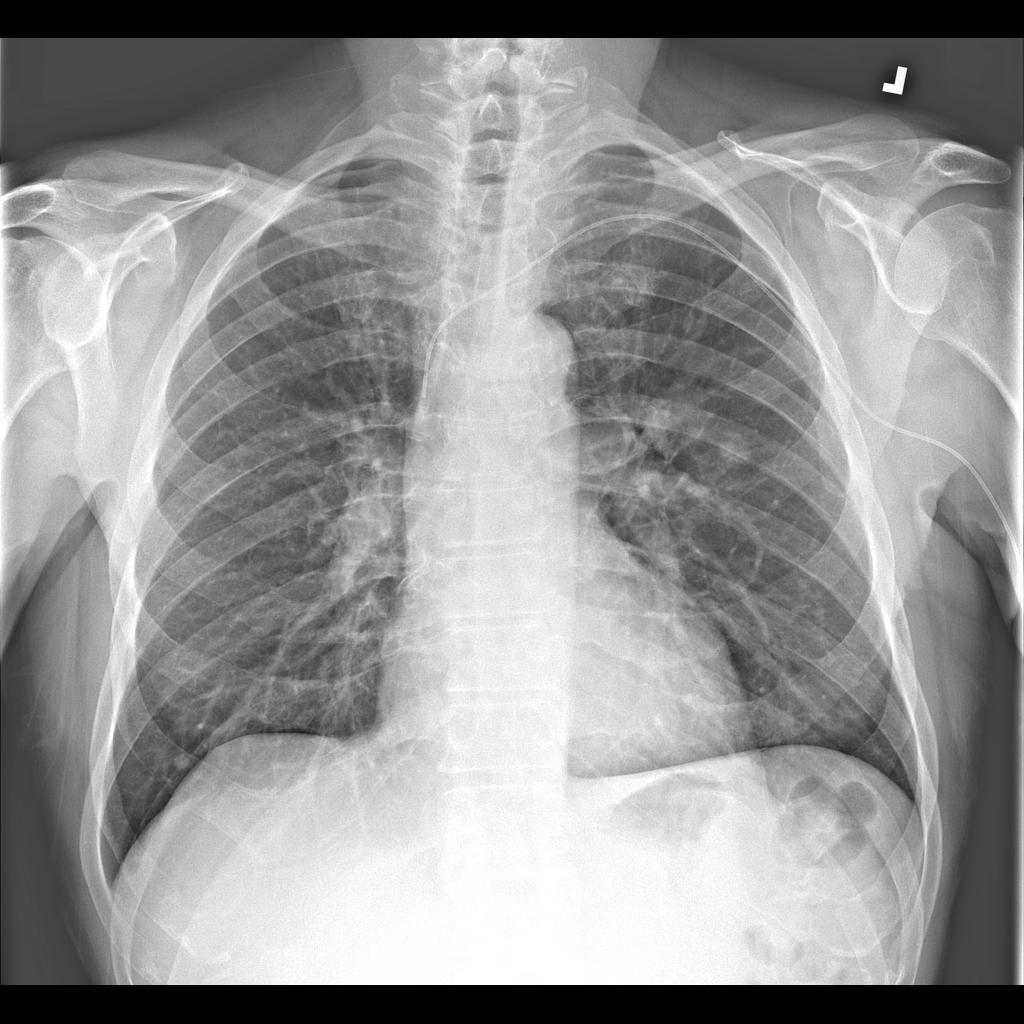Nodule: (640, 391, 709, 465), (717, 431, 759, 477)
